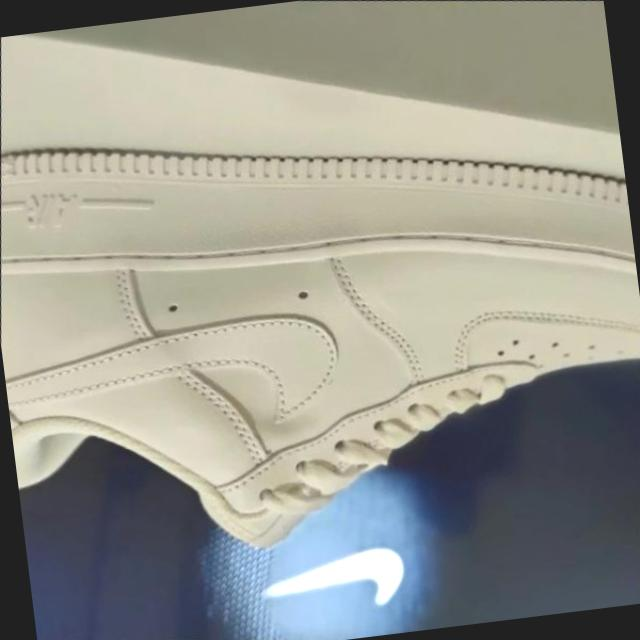nike_original_airforce: (0, 68, 640, 622)
